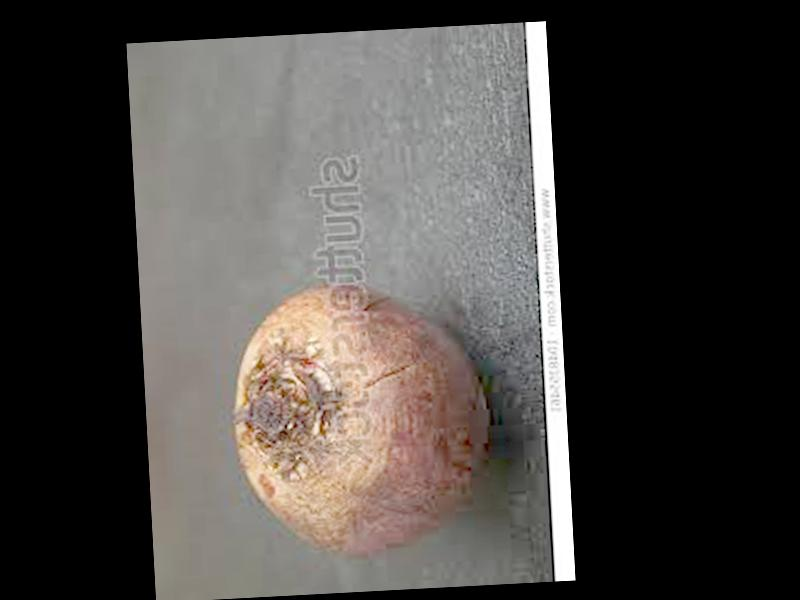Beet: (229, 280, 491, 567)
